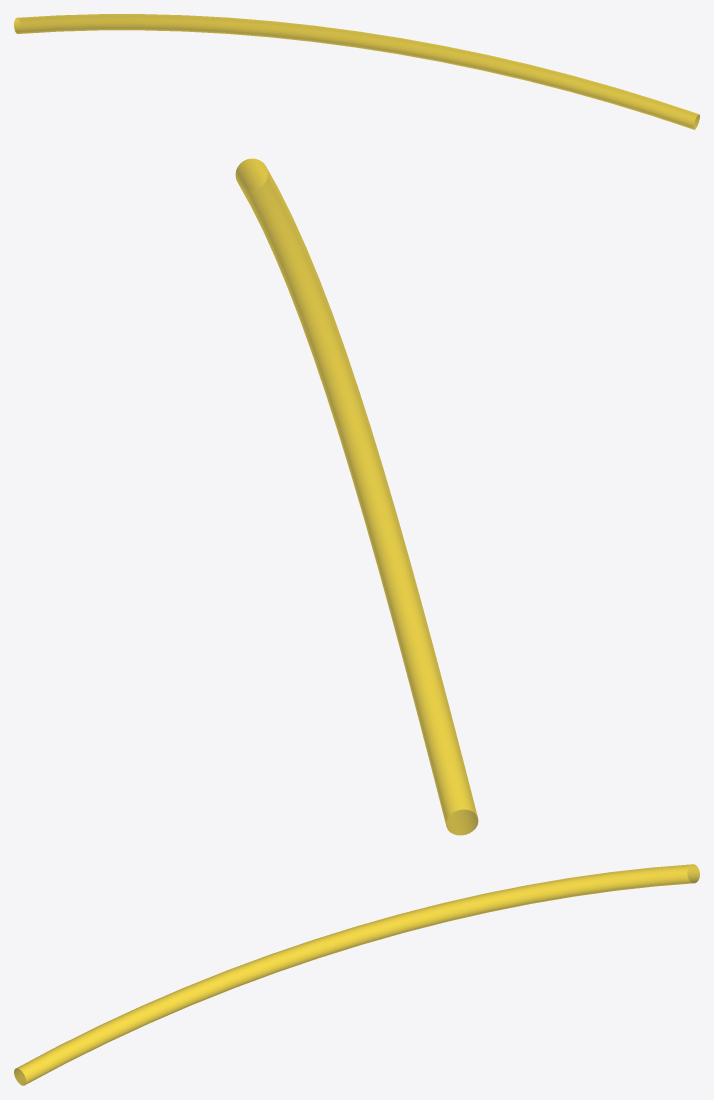
File: Event_419990632_track_22.fbx
The picture shows the model from 3 angles, top to bottom: view 1: azimuth 30°, elevation 25°; view 2: azimuth 150°, elevation 25°; view 3: azimuth 270°, elevation 25°; orthographic projection. The views are drawn at different scales.
Visible parts, largest first — view 1: Model; view 2: Model; view 3: Model.
Boxes of the visible parts, box(x1,y1,x2,y2) form: Model: box(14, 14, 699, 129); Model: box(235, 158, 478, 835); Model: box(14, 864, 699, 1085).
Size of the model in its own units: 1.13 by 0.1569 by 1.42.
